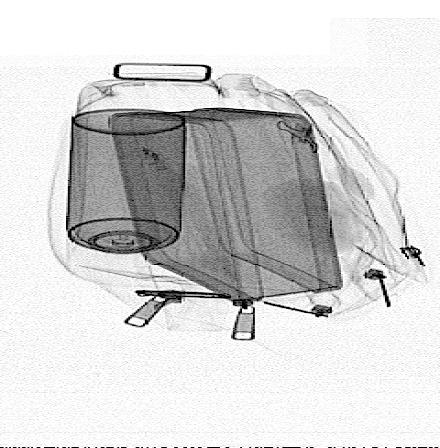Sprayer: (64, 107, 189, 289)
